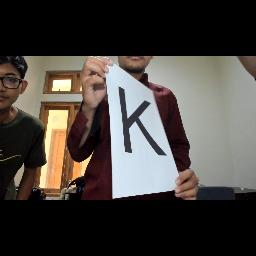k: (111, 80, 171, 158)
